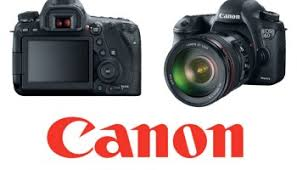camera: (164, 5, 281, 106), (14, 5, 141, 95)
